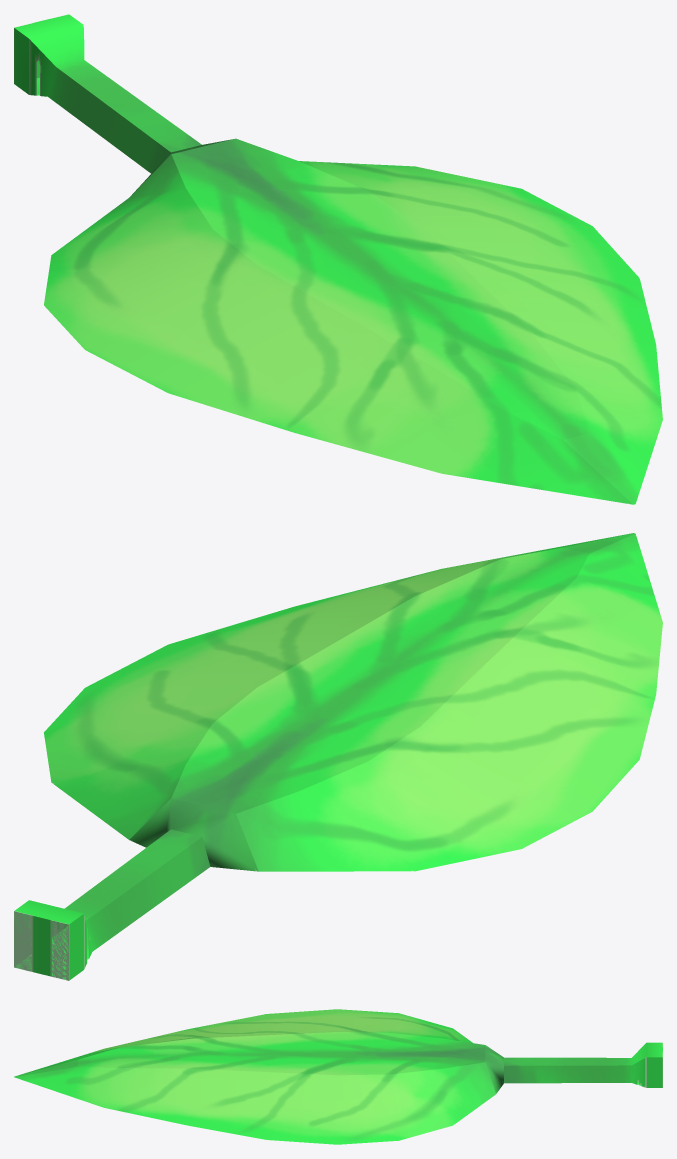
The model's file is Leaf.obj.
The picture shows the model from 3 angles, top to bottom: view 1: azimuth 30°, elevation 25°; view 2: azimuth 150°, elevation 25°; view 3: azimuth 270°, elevation 25°; orthographic projection. The views are drawn at different scales.
Visible parts, largest first — view 1: Leaf; view 2: Leaf; view 3: Leaf.
Boxes of the visible parts, box(x1,y1,x2,y2) form: Leaf: box(14, 14, 662, 504); Leaf: box(14, 533, 662, 980); Leaf: box(14, 1009, 662, 1144).
Bounding box in the file's own units: 1.52 × 0.1609 × 3.07.
1 material, 1 textured.
